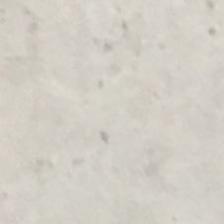Non_Crack: (10, 18, 164, 192)
